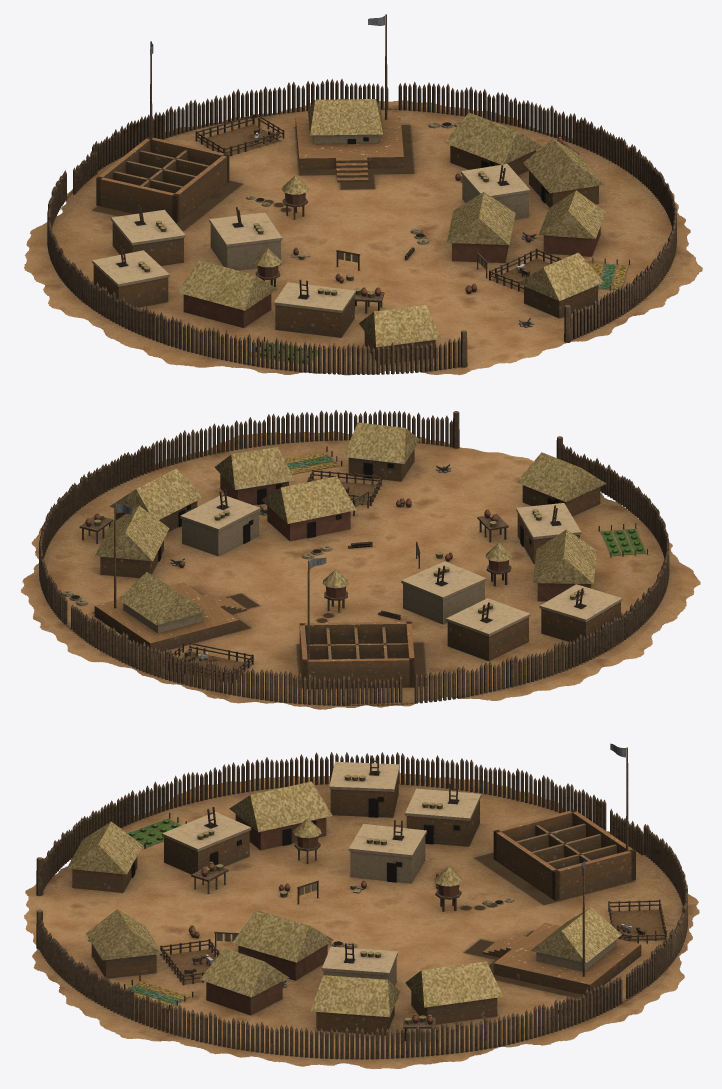
Rendered from stone-town-medium-b-indic.glb.
The picture shows the model from 3 angles, top to bottom: view 1: azimuth 30°, elevation 25°; view 2: azimuth 150°, elevation 25°; view 3: azimuth 270°, elevation 25°; orthographic projection. The views are drawn at different scales.
Parts seen in each view (by area): view 1: LOD0; view 2: LOD0; view 3: LOD0.
Part boxes in pixels (x1,y1,x2,y2): LOD0: (24,14,702,375); LOD0: (21,410,700,709); LOD0: (24,743,699,1069).
Size of what is drawn, in the model's own units: 5.98 by 1.23 by 5.74.
Materials: 3 (3 with a texture image).
